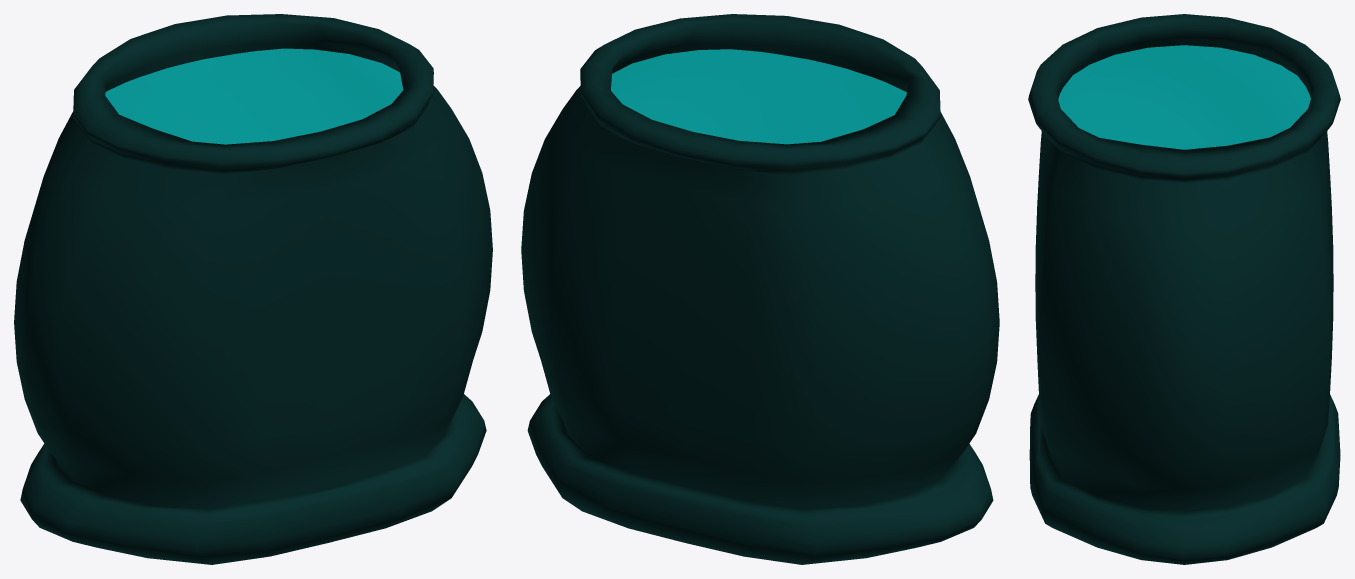
File: Golfish.fbx
3 views of the same model, side by side, from view 1: azimuth 30°, elevation 25°; view 2: azimuth 150°, elevation 25°; view 3: azimuth 270°, elevation 25° (orthographic). The views are drawn at different scales.
Parts seen in each view (by area): view 1: Fishbowl, Water; view 2: Fishbowl, Water; view 3: Fishbowl, Water.
Part boxes in pixels (x1,y1,x2,y2): Fishbowl: (14,14,492,564); Water: (105,48,403,144); Fishbowl: (521,14,999,564); Water: (611,49,906,144); Fishbowl: (1028,14,1340,564); Water: (1058,45,1310,149).
Size of the model in its own units: 16.02 by 13.64 by 9.91.
